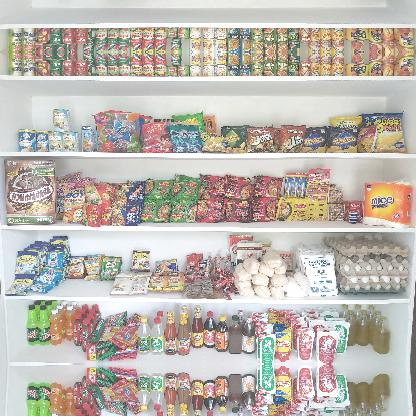Koko-Krunch: (3, 155, 58, 225)
